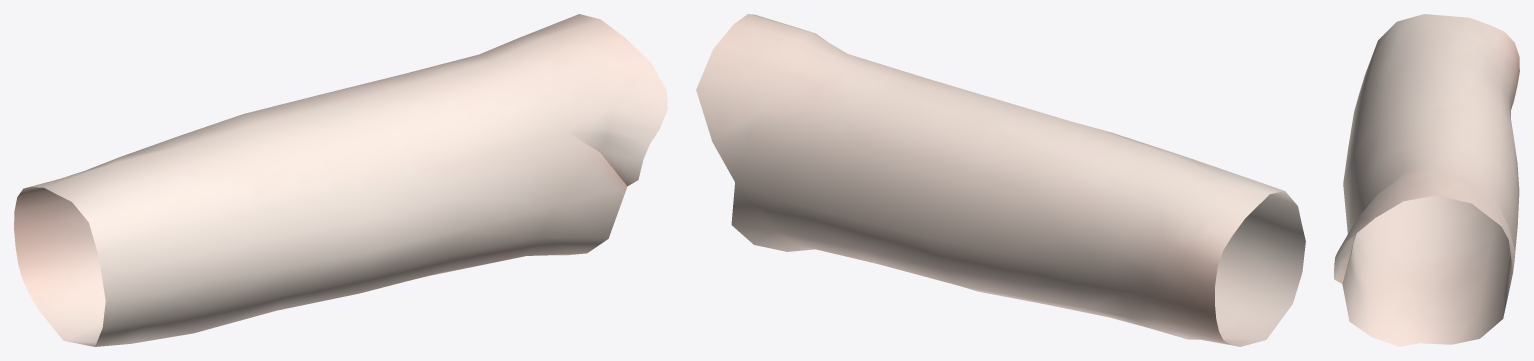
File: Koharu_Antebrazo_2.obj
The picture shows the model from 3 angles, left to right: view 1: azimuth 30°, elevation 25°; view 2: azimuth 150°, elevation 25°; view 3: azimuth 270°, elevation 25°; orthographic projection. The views are drawn at different scales.
Parts seen in each view (by area): view 1: Antebrazo_2_Body_큐브.006; view 2: Antebrazo_2_Body_큐브.006; view 3: Antebrazo_2_Body_큐브.006.
Part boxes in pixels (x1=…): Antebrazo_2_Body_큐브.006: x1=14, y1=14, x2=667, y2=346; Antebrazo_2_Body_큐브.006: x1=696, y1=14, x2=1305, y2=346; Antebrazo_2_Body_큐브.006: x1=1334, y1=14, x2=1519, y2=346.
Bounding box in the file's own units: 0.1543 × 0.0555 × 0.053.
